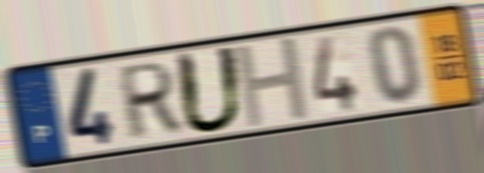0: (365, 23, 427, 109)
4: (65, 63, 122, 152), (311, 32, 361, 115)
H: (232, 33, 314, 133)
R: (117, 58, 184, 144)
U: (172, 43, 247, 137)
